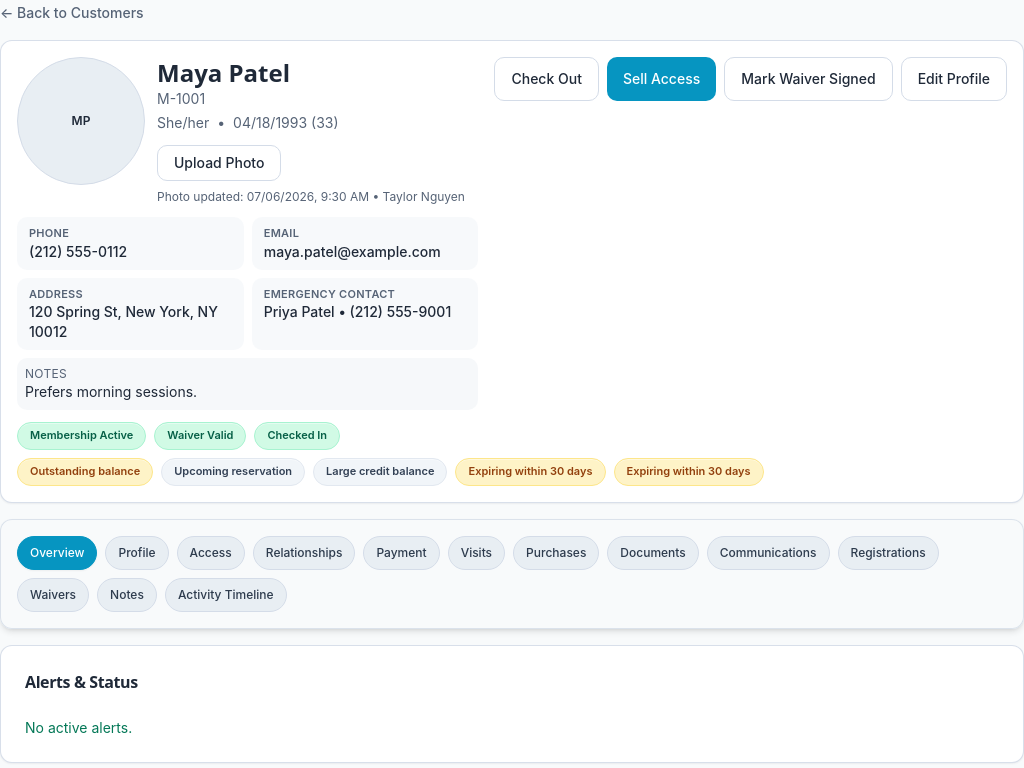
Test: CustomerDetailPage › custom pronouns field appears when Custom is selected
Click the button "Edit Profile" at x=954, y=79, box [901,57,1007,101]
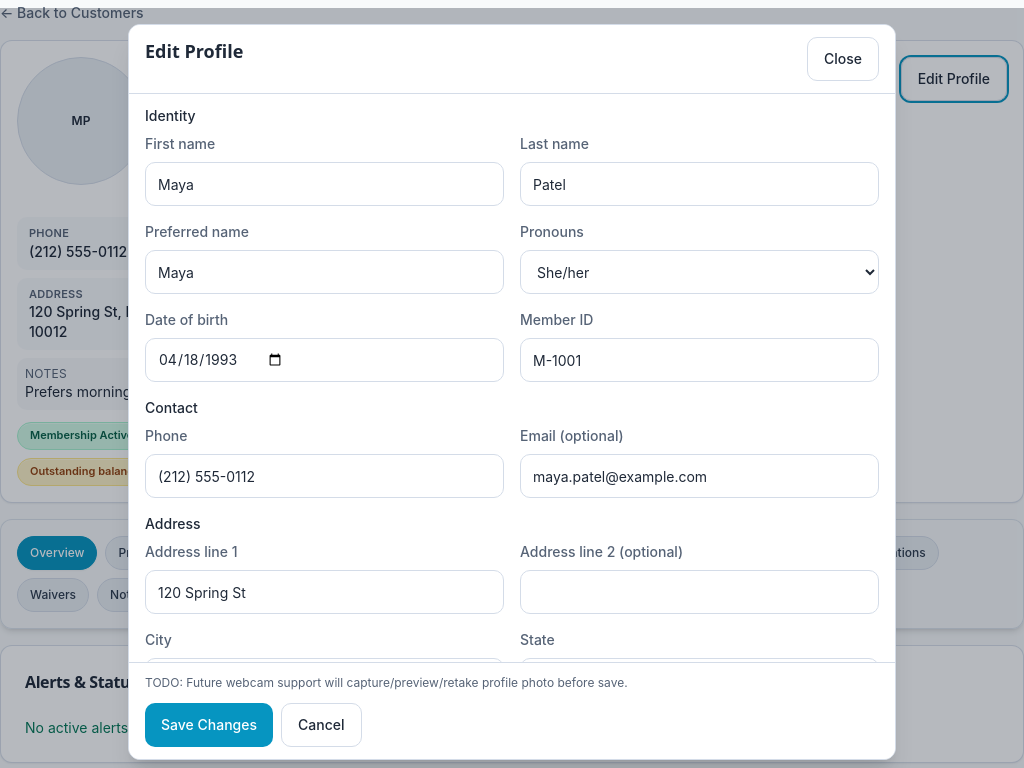
Expected: the field labelled "Custom pronouns" is not shown
Select "Custom" in the dropdown labelled "Pronouns" at x=700, y=272, box [520,250,879,294]
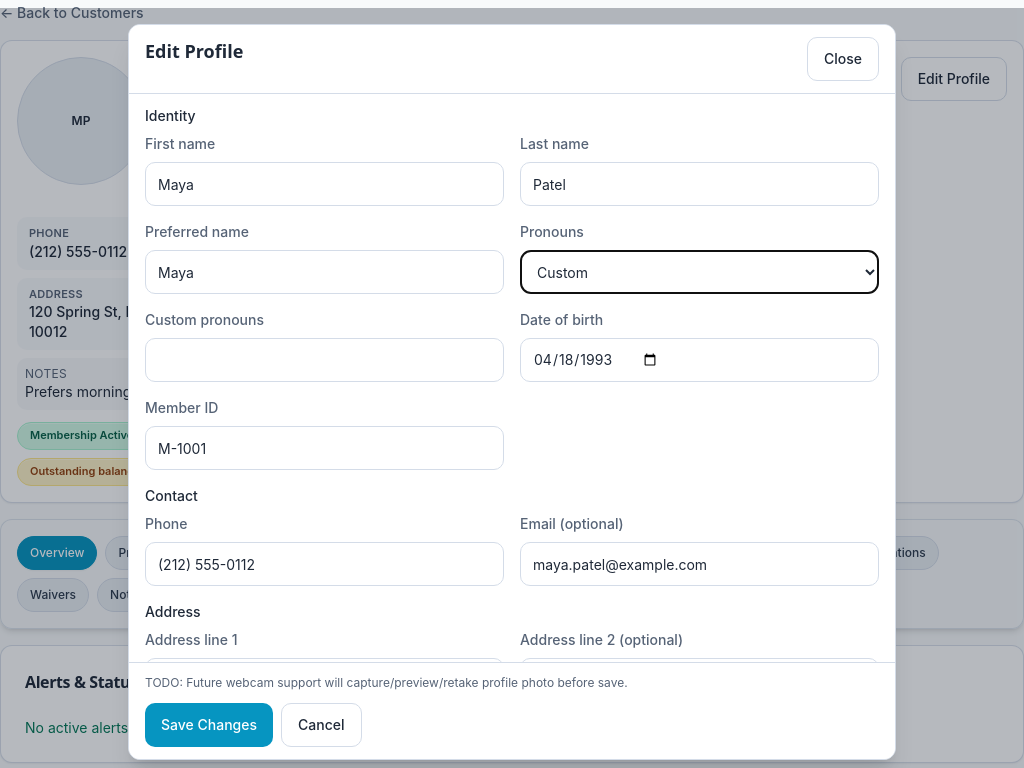
Result: the field labelled "Custom pronouns" is shown at [145,338,504,382]
